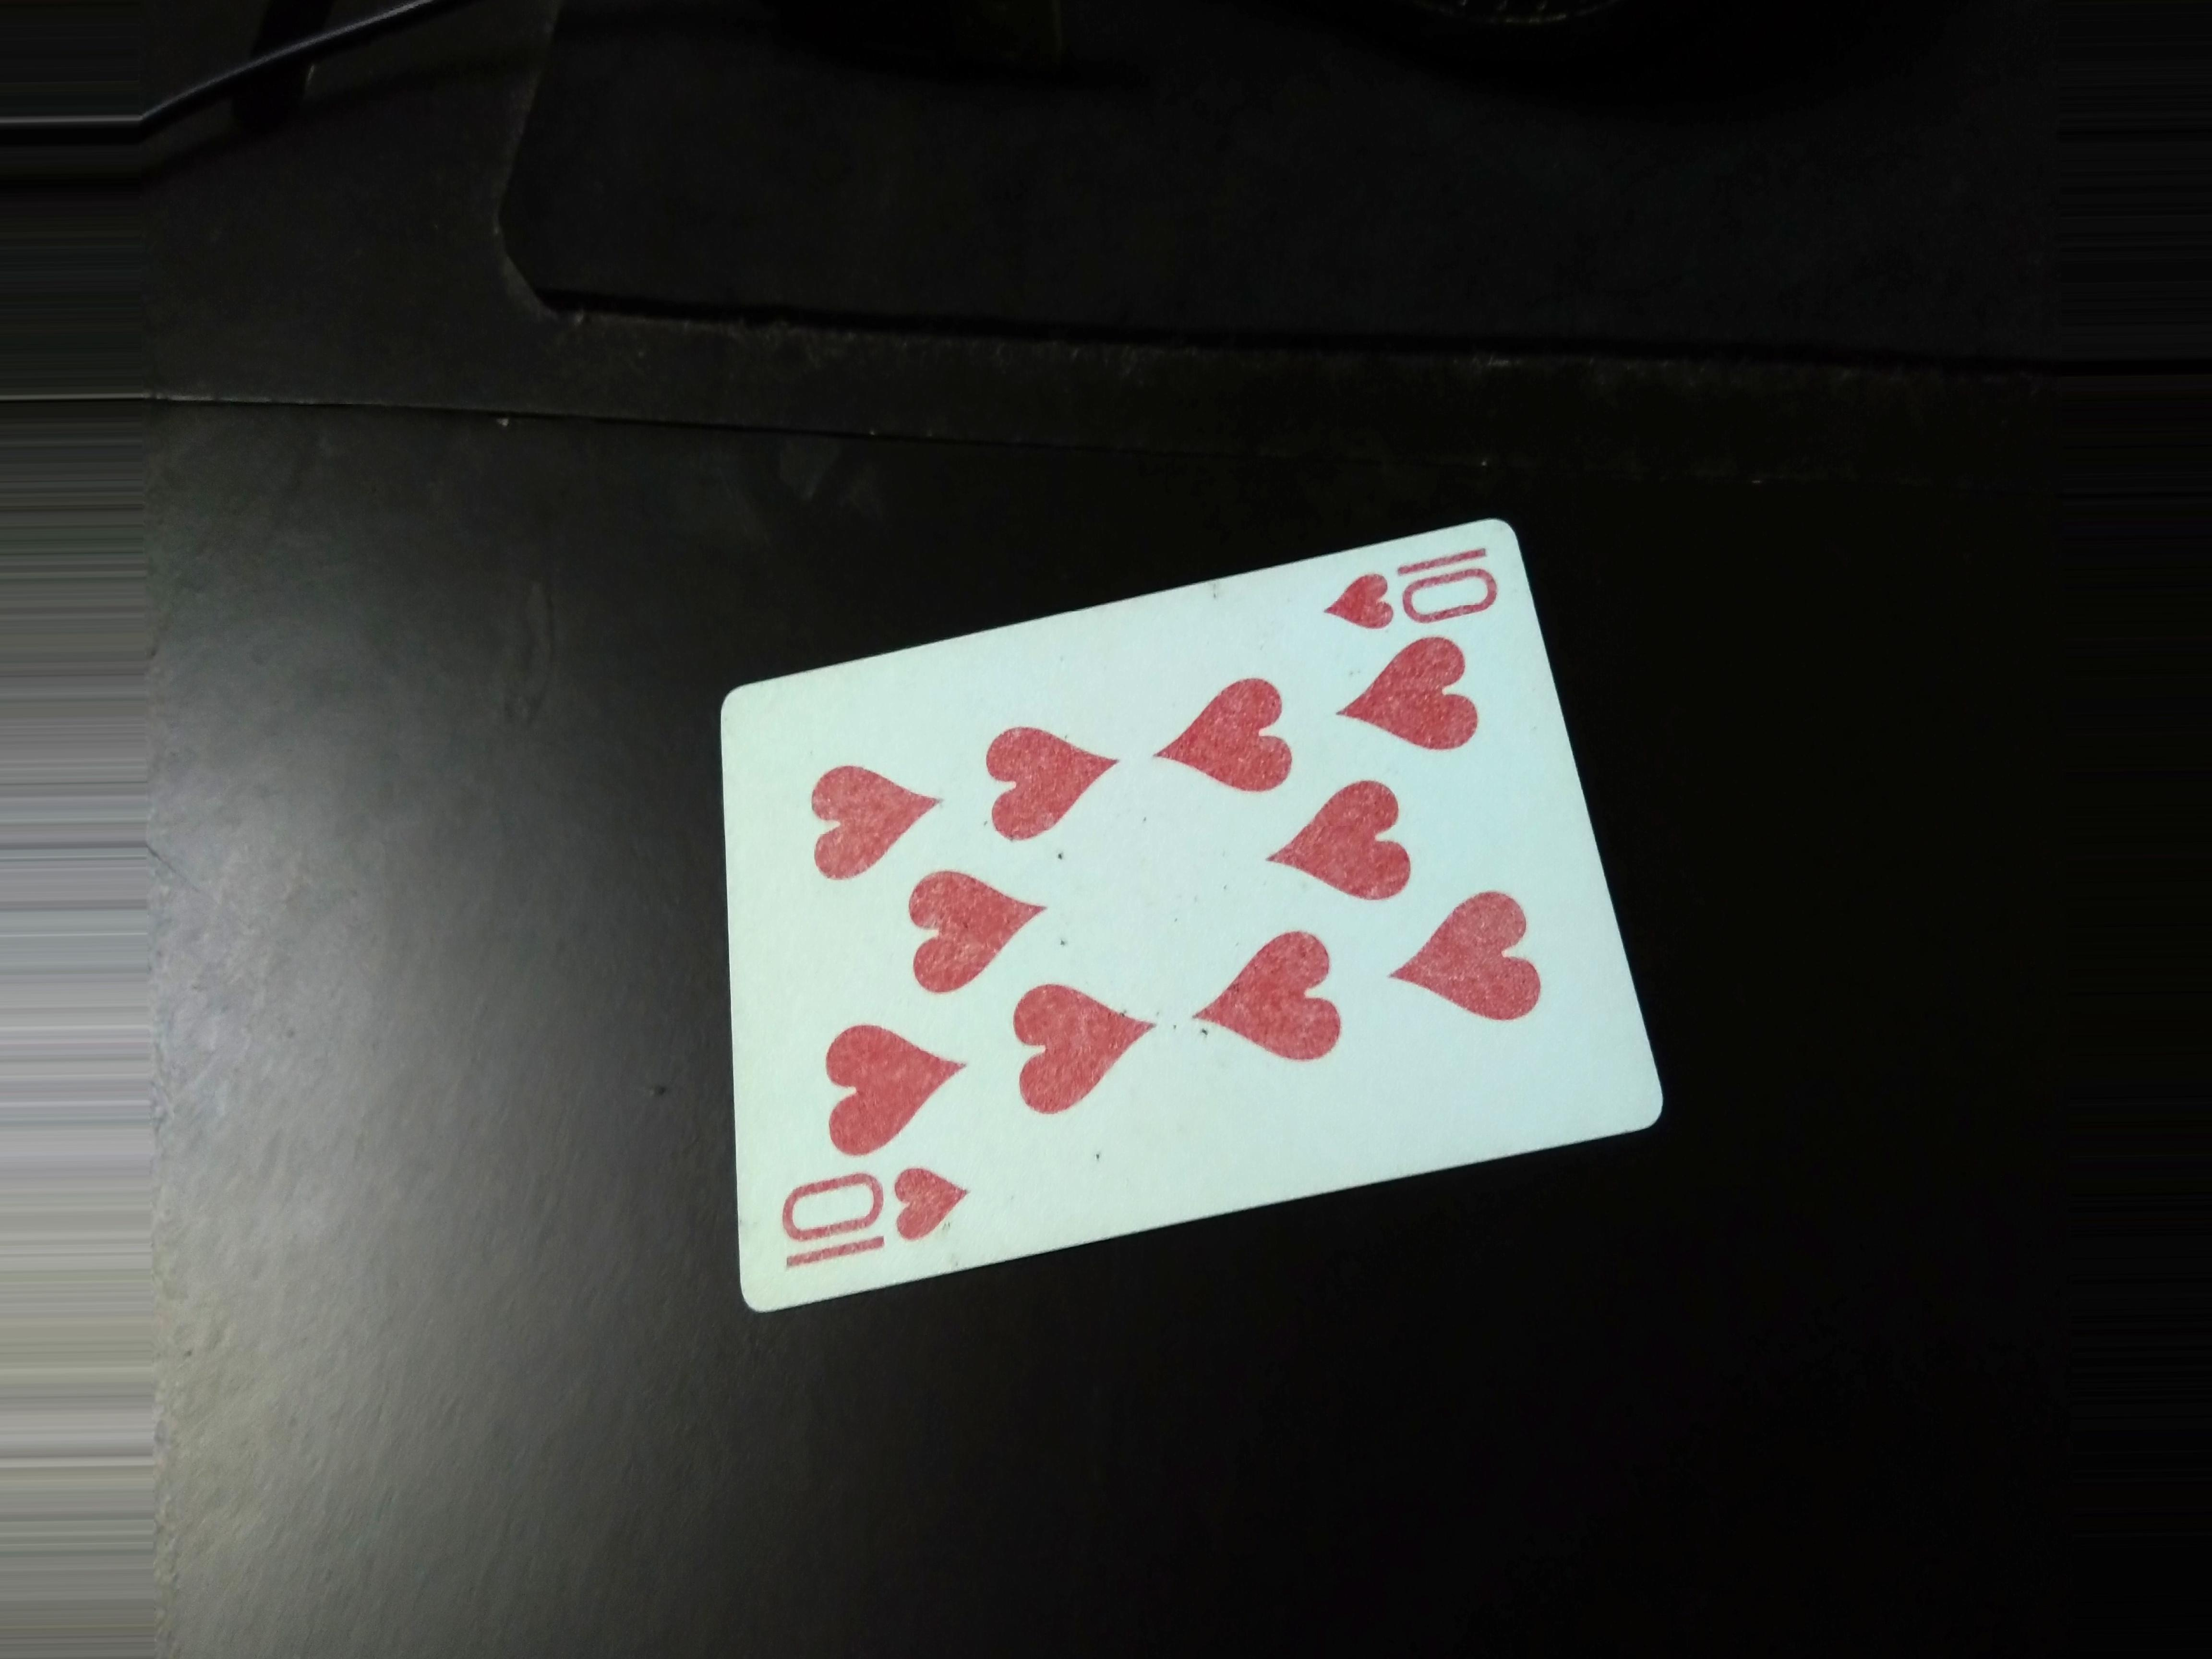10H: (772, 1173, 970, 1276)
